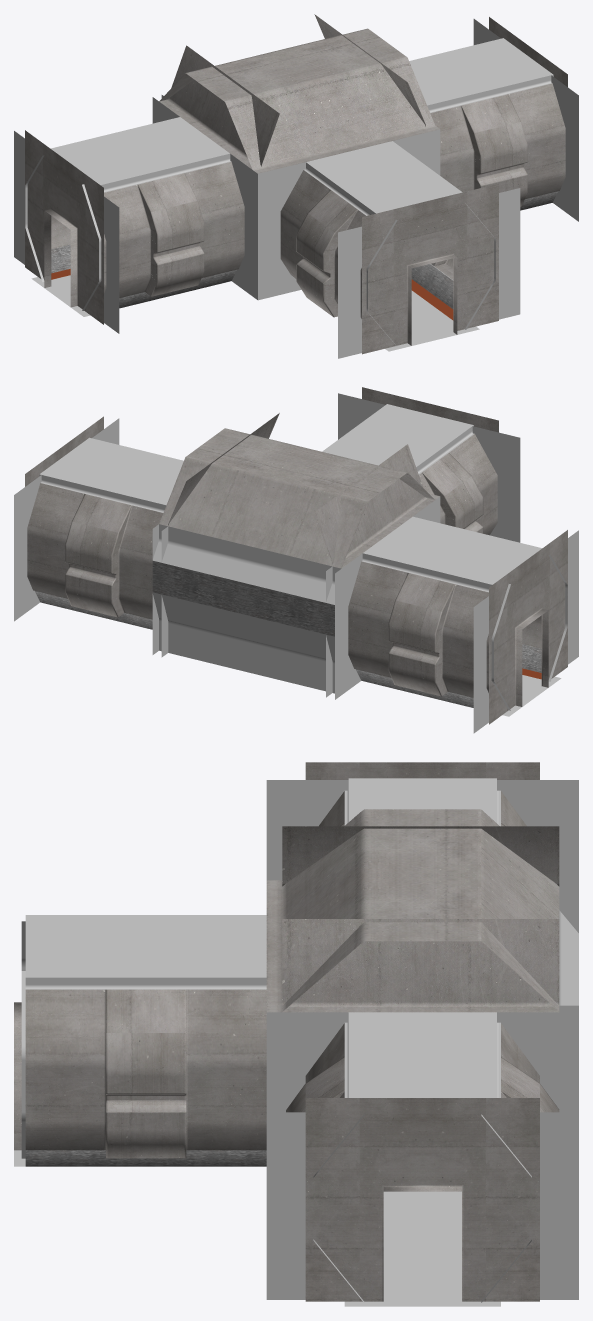
Rendered from HC_room3.gltf.
The picture shows the model from 3 angles, top to bottom: view 1: azimuth 30°, elevation 25°; view 2: azimuth 150°, elevation 25°; view 3: azimuth 270°, elevation 25°; orthographic projection. The views are drawn at different scales.
Visible parts, largest first — view 1: Nuke_1.001; view 2: Nuke_1.001; view 3: Nuke_1.001.
Part boxes in pixels (left/top/right/bottom): Nuke_1.001: left=14, top=14, right=578, bottom=358; Nuke_1.001: left=14, top=387, right=578, bottom=733; Nuke_1.001: left=14, top=762, right=578, bottom=1306.
Bounding box in the file's own units: 20.94 × 7.38 × 14.47.
